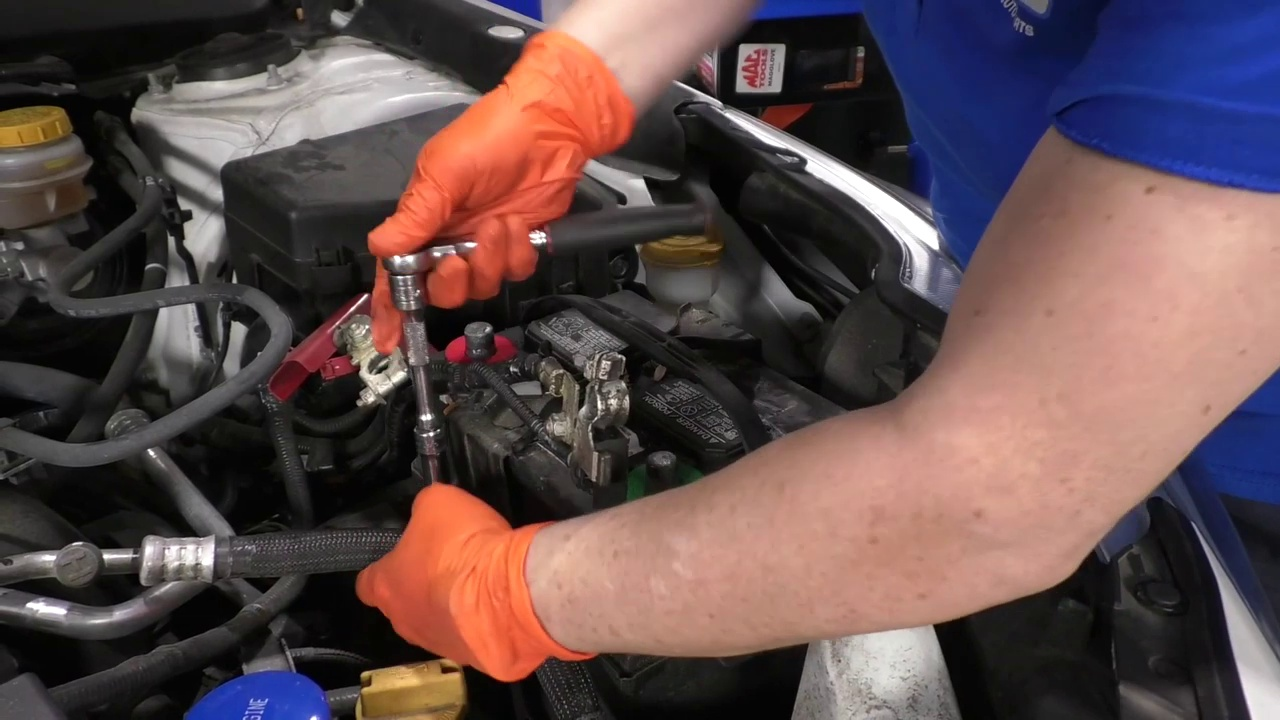battery: (423, 287, 867, 535)
pos_touched: (330, 210, 535, 406)
